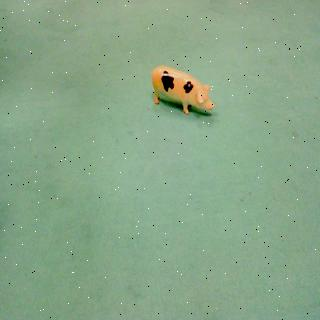pig: (148, 60, 216, 122)
